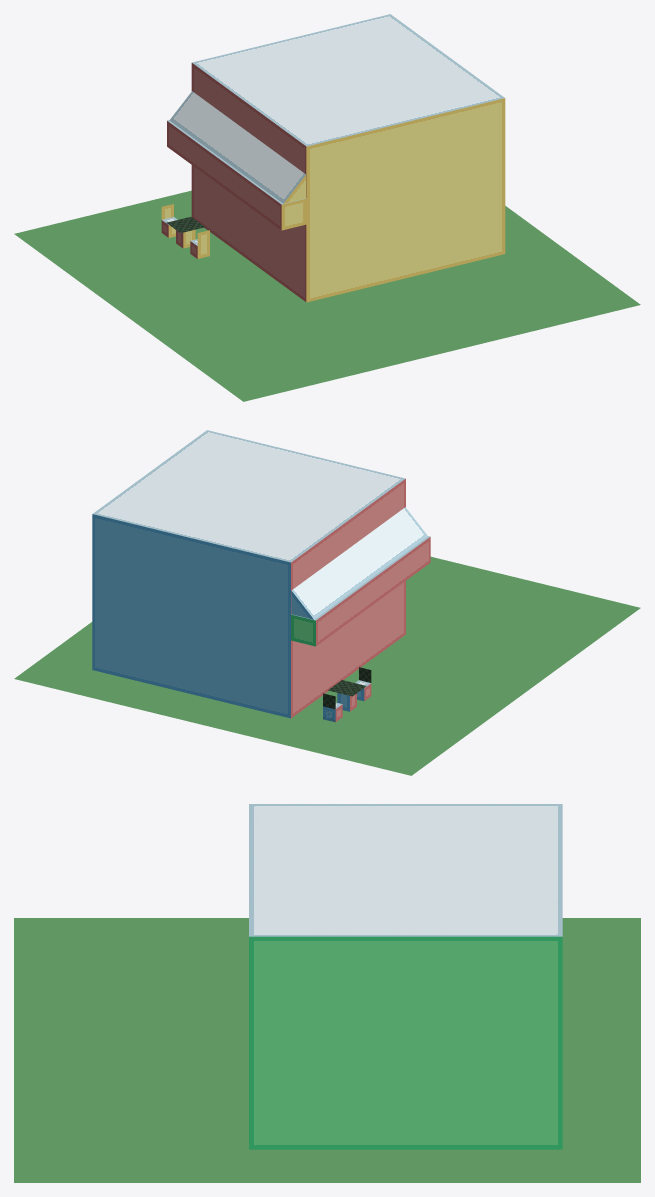
File: Cafe.5a05628e.gltf
The picture shows the model from 3 angles, top to bottom: view 1: azimuth 30°, elevation 25°; view 2: azimuth 150°, elevation 25°; view 3: azimuth 270°, elevation 25°; orthographic projection. The views are drawn at different scales.
Parts seen in each view (by area): view 1: Cafe Building, plane, Cafe Lining top, Cafe Lining Base; view 2: Cafe Building, plane, Cafe Lining top, Cafe Lining Base; view 3: Cafe Building, plane.
Boxes of the visible parts, <box> form: Cafe Building: <box>191,14,505,302</box>; plane: <box>14,190,640,401</box>; Cafe Lining top: <box>169,91,305,203</box>; Cafe Lining Base: <box>167,120,306,230</box>; Cafe Building: <box>92,430,405,718</box>; plane: <box>14,556,640,775</box>; Cafe Lining top: <box>291,507,427,619</box>; Cafe Lining Base: <box>291,536,430,646</box>; Cafe Building: <box>249,804,562,1149</box>; plane: <box>14,918,640,1182</box>.
Bounding box in the file's own units: 2 × 0.75 × 2.
Materials: 1 (1 with a texture image).
